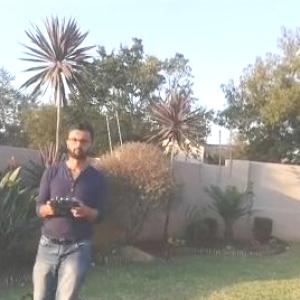follow: (27, 115, 112, 299)
